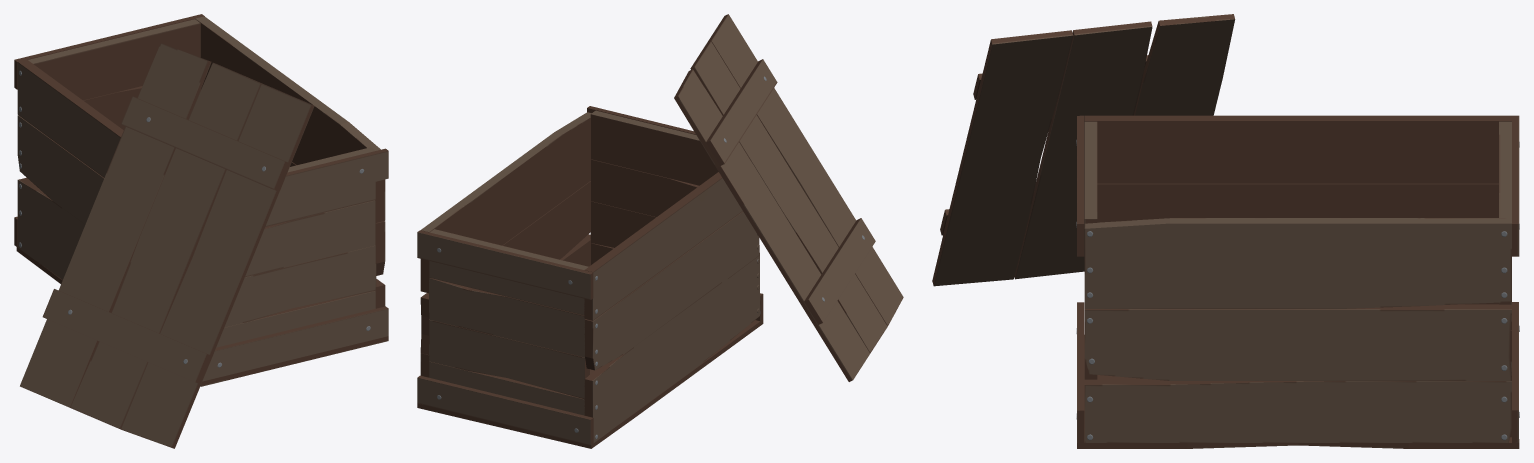
File: Crate_LidPropped_Empty.fbx
3 renders of one model, left to right at view 1: azimuth 30°, elevation 25°; view 2: azimuth 150°, elevation 25°; view 3: azimuth 270°, elevation 25°, orthographic. The views are drawn at different scales.
Visible parts, largest first — view 1: Lid.004, Side_02.007, Side_03.007, Side_04.007, Side_01.007, Crate.007; view 2: Lid.004, Side_04.007, Side_03.007, Side_01.007, Side_02.007, Crate.007; view 3: Side_01.007, Lid.004, Side_03.007, Side_02.007, Side_04.007, Crate.007.
Boxes of the visible parts, x1,y1,x2,y2 form: Lid.004: (20, 43, 314, 448); Side_02.007: (202, 147, 388, 381); Side_03.007: (17, 59, 123, 279); Side_04.007: (14, 14, 204, 247); Side_01.007: (195, 16, 385, 308); Crate.007: (16, 247, 388, 386); Lid.004: (674, 14, 903, 381); Side_04.007: (417, 229, 593, 445); Side_03.007: (584, 172, 759, 442); Side_01.007: (420, 112, 591, 377); Side_02.007: (587, 106, 763, 321); Crate.007: (417, 320, 763, 448); Side_01.007: (1084, 218, 1511, 442); Lid.004: (932, 14, 1235, 286); Side_03.007: (1084, 115, 1511, 304); Side_02.007: (1076, 115, 1097, 442); Side_04.007: (1499, 115, 1519, 442); Crate.007: (1077, 335, 1519, 448).
Size of the model in its own units: 125 by 106 by 164.
